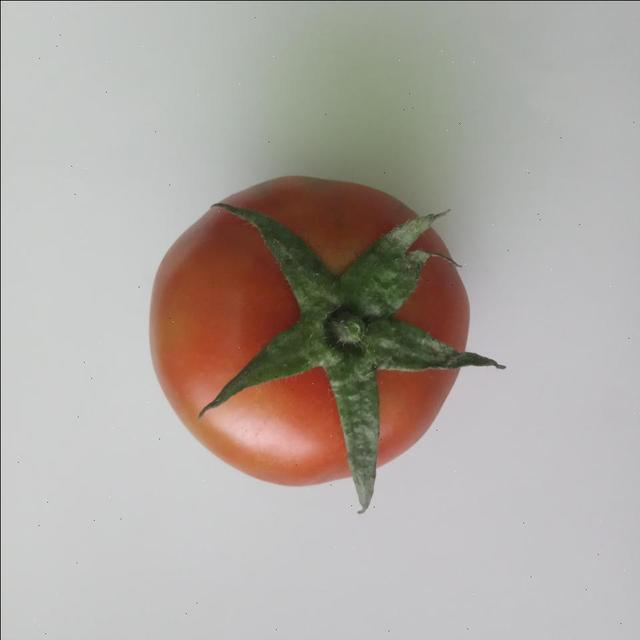Healthy Fruit: (96, 112, 316, 329)
